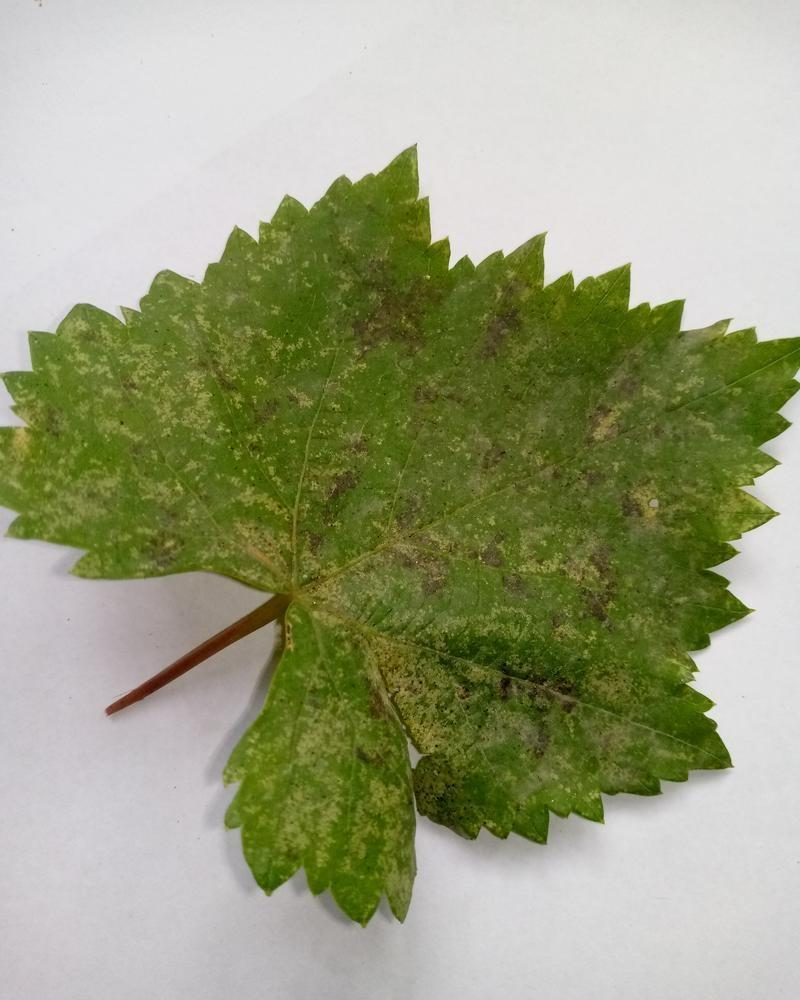Powdery-Mildew: (245, 666, 415, 905), (424, 651, 657, 812), (560, 477, 756, 657), (315, 475, 507, 641), (586, 317, 799, 463), (96, 274, 257, 447), (413, 364, 577, 487), (125, 472, 286, 570), (335, 232, 451, 361), (16, 408, 111, 534), (485, 271, 551, 358), (327, 408, 390, 471)
